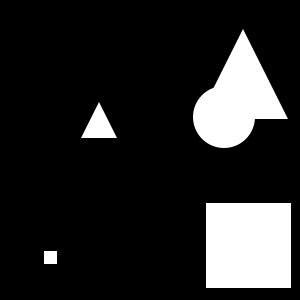circle: (206, 203, 291, 288), (44, 251, 57, 264)
rectangle: (193, 86, 255, 148)
triangle: (198, 29, 288, 119), (81, 102, 117, 138)
